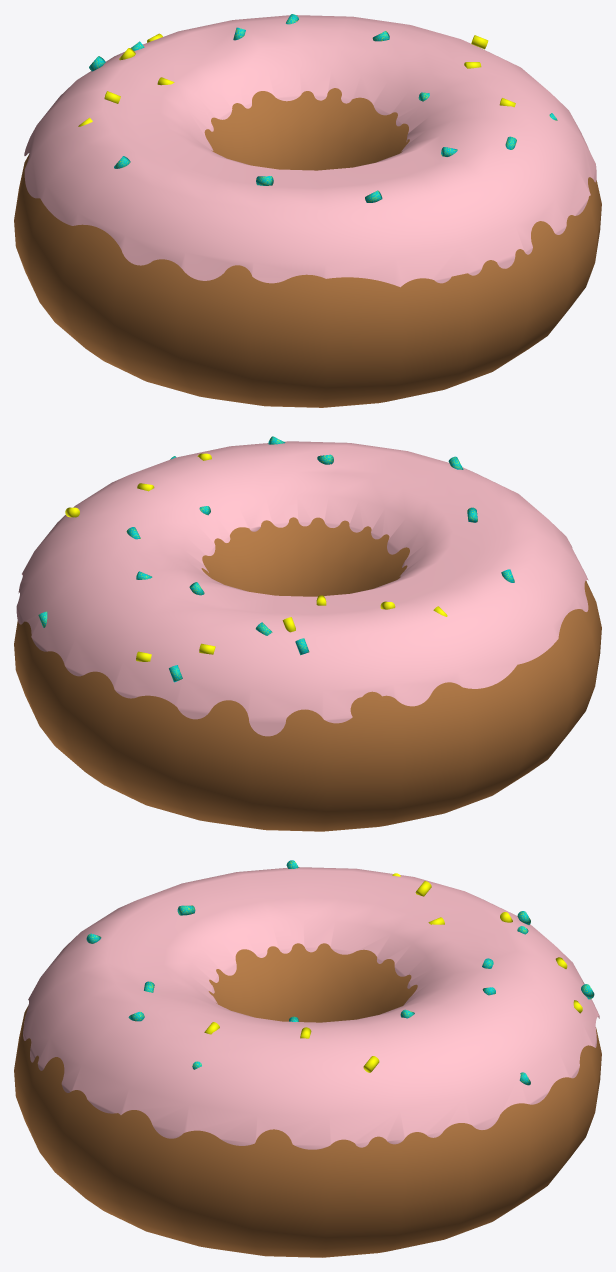
File: donut.dae
3 views of the same model, one above another, from view 1: azimuth 30°, elevation 25°; view 2: azimuth 150°, elevation 25°; view 3: azimuth 270°, elevation 25° (orthographic).
Visible parts, largest first — view 1: Component_6, Component_2; view 2: Component_6, Component_2; view 3: Component_6, Component_2.
Boxes of the visible parts, bbox=[...] form: Component_6: bbox=[24, 15, 596, 287]; Component_2: bbox=[14, 88, 601, 407]; Component_6: bbox=[16, 441, 588, 736]; Component_2: bbox=[14, 517, 601, 831]; Component_6: bbox=[23, 867, 599, 1149]; Component_2: bbox=[14, 943, 601, 1257].
Size of the model in its own units: 7.53 by 7.53 by 3.14.
